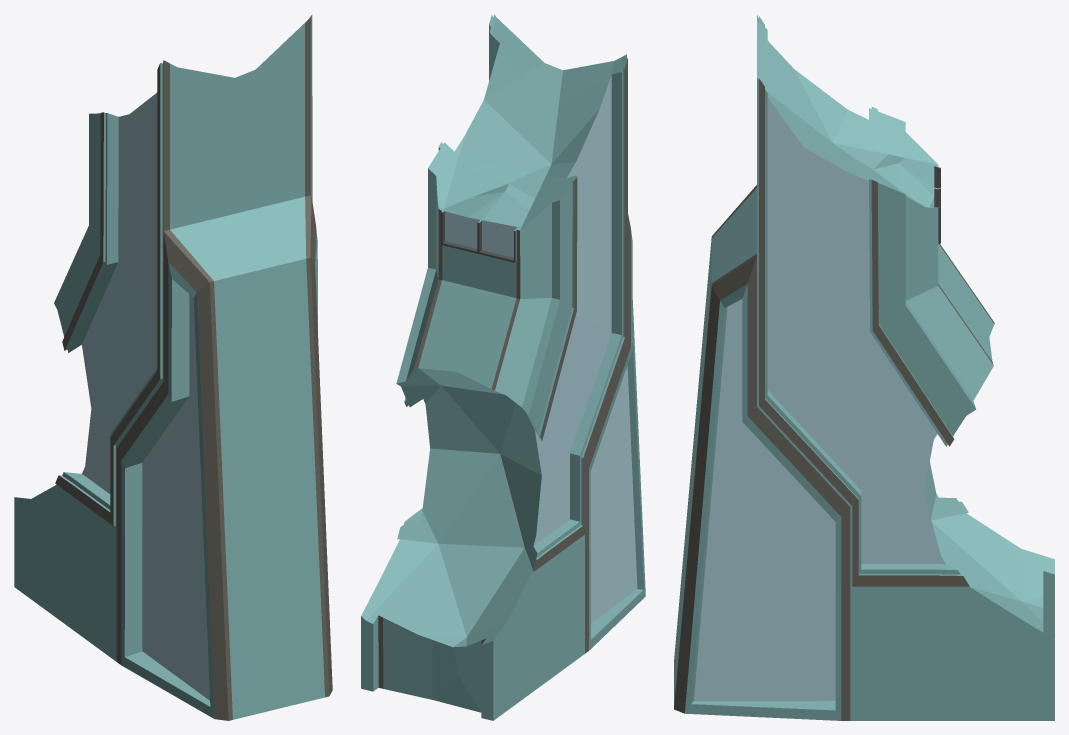
3 views of the same model, side by side, from view 1: azimuth 30°, elevation 25°; view 2: azimuth 150°, elevation 25°; view 3: azimuth 270°, elevation 25° (orthographic). The views are drawn at different scales.
Parts seen in each view (by area): view 1: Cube.007; view 2: Cube.007; view 3: Cube.007.
Boxes of the visible parts, bbox=[...] form: Cube.007: bbox=[14, 14, 332, 720]; Cube.007: bbox=[361, 14, 645, 720]; Cube.007: bbox=[674, 15, 1054, 720].
Bounding box in the file's own units: 469 × 1899 × 1018.
